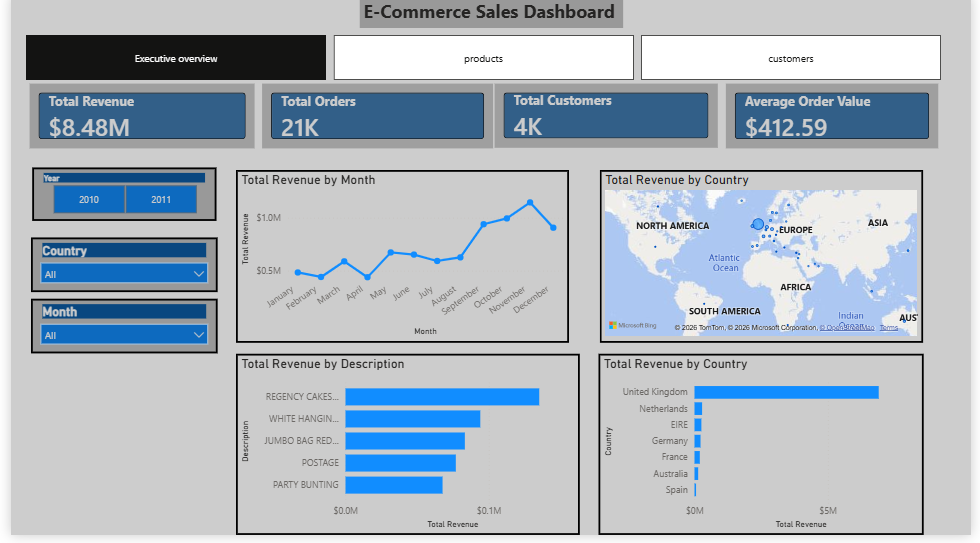

Layout of this report page (visuals, bound fields, positions):
{"tool":"powerbi","page":{"name":"Executive overview","canvas":[1280,720],"ordinal":0},"visuals":[{"type":"cardVisual","fields":{"Data":["Sales.Total Revenue"]},"box":[20,112.5,310,96.2],"z":0},{"type":"cardVisual","fields":{"Data":["Sales.Average Order Value"]},"box":[947.5,112.5,293.8,96.2],"z":1000},{"type":"cardVisual","fields":{"Data":["Sales.Total Customers"]},"box":[640,112.5,307.5,95],"z":2000},{"type":"cardVisual","fields":{"Data":["Sales.Total Orders"]},"box":[330,112.5,318.8,96.2],"z":3000},{"type":"lineChart","fields":{"Y":["Sales.Total Revenue"],"Category":["Sales.Month"]},"box":[300,232.9,444.3,230],"z":4000},{"type":"map","fields":{"Category":["Sales.Country"],"Size":["Sales.Total Revenue"]},"box":[784.3,232.9,431.4,230],"z":5000},{"type":"barChart","fields":{"Category":["Sales.Description"],"Y":["Sales.Total Revenue"]},"box":[300,478.3,458.3,241.7],"z":6000},{"type":"textbox","box":[465,0,351.2,43.8],"z":7000},{"type":"slicer","fields":{"Values":["Sales.Country"]},"box":[26.2,323.8,248.8,72.5],"z":8000},{"type":"slicer","fields":{"Values":["Sales.Month"]},"box":[26.2,405,248.8,72.5],"z":9000},{"type":"slicer","title":"Year","fields":{"Values":["Sales.Year"]},"box":[28.6,230,245.7,71.4],"z":10000},{"type":"barChart","fields":{"Category":["Sales.Country"],"Y":["Sales.Total Revenue"]},"box":[783.3,478.3,433.3,241.7],"z":11000},{"type":"pageNavigator","box":[20,52.5,1221.2,60],"z":12000}]}

Visuals, with their boxes in screenshot pixels (x1, y1, x2, y2), scaled from the page's 1280x720 canvas onto the 980x543 screenshot:
cardVisual - Sales.Total Revenue: x1=15, y1=85, x2=253, y2=157
cardVisual - Sales.Average Order Value: x1=725, y1=85, x2=950, y2=157
cardVisual - Sales.Total Customers: x1=490, y1=85, x2=725, y2=156
cardVisual - Sales.Total Orders: x1=253, y1=85, x2=497, y2=157
lineChart - Sales.Total Revenue x Sales.Month: x1=230, y1=176, x2=570, y2=349
map - Sales.Country x Sales.Total Revenue: x1=600, y1=176, x2=931, y2=349
barChart - Sales.Description x Sales.Total Revenue: x1=230, y1=361, x2=581, y2=542
textbox: x1=356, y1=0, x2=625, y2=33
slicer - Sales.Country: x1=20, y1=244, x2=211, y2=299
slicer - Sales.Month: x1=20, y1=305, x2=211, y2=360
"Year" slicer: x1=22, y1=173, x2=210, y2=227
barChart - Sales.Country x Sales.Total Revenue: x1=600, y1=361, x2=931, y2=542
pageNavigator: x1=15, y1=40, x2=950, y2=85
